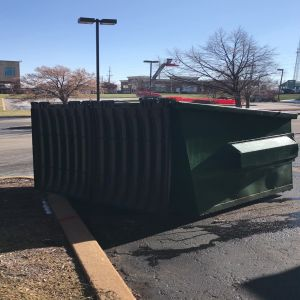Dumpster: (24, 95, 300, 222)
